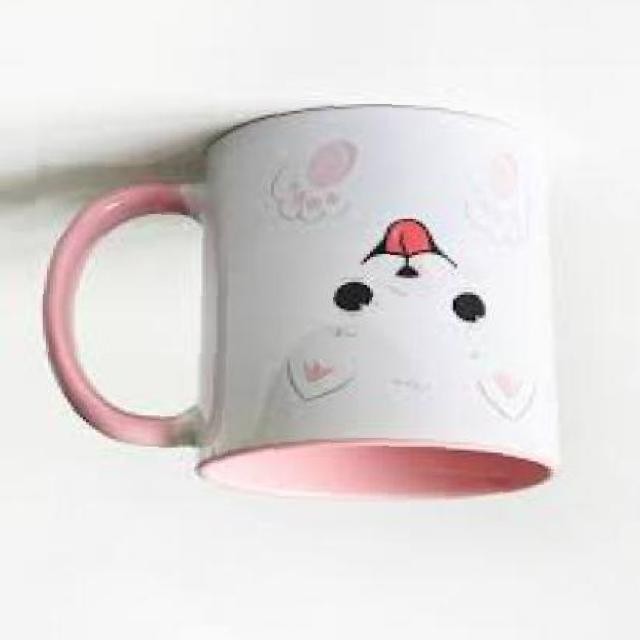cup: (31, 88, 577, 506)
